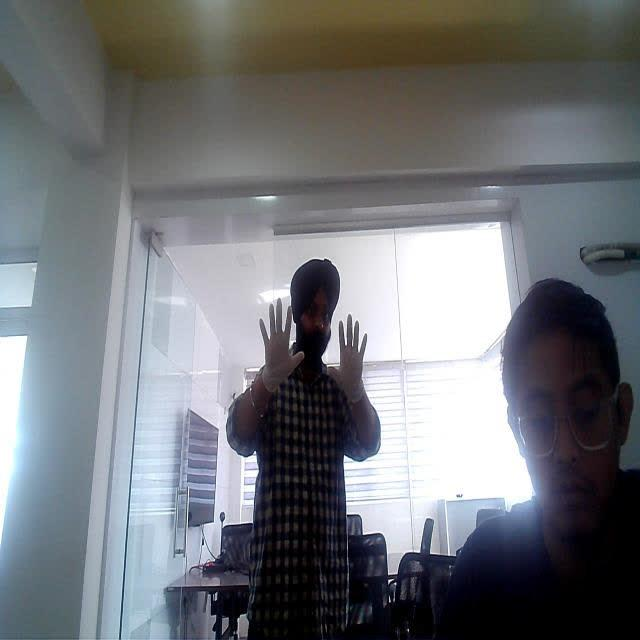with_gloves: (249, 298, 300, 408), (322, 299, 370, 409)
